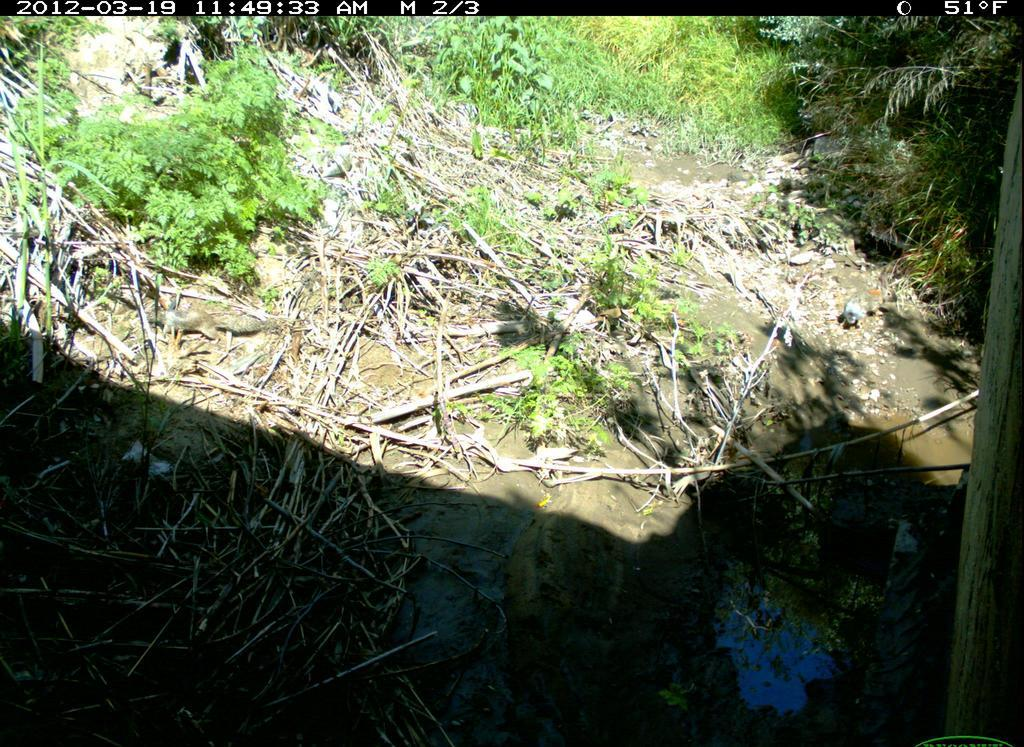squirrel: (148, 302, 268, 342)
